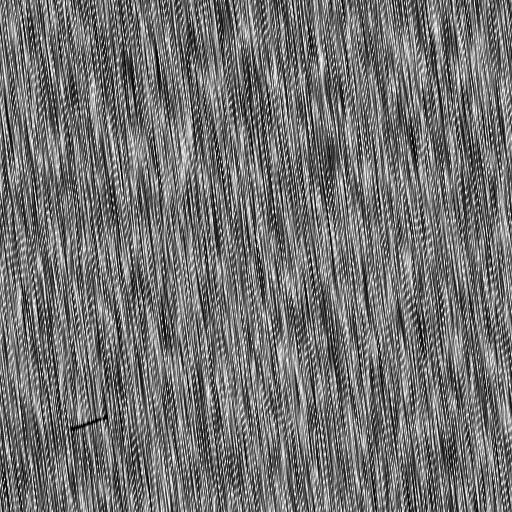DefectTypeC: (70, 416, 107, 432)
